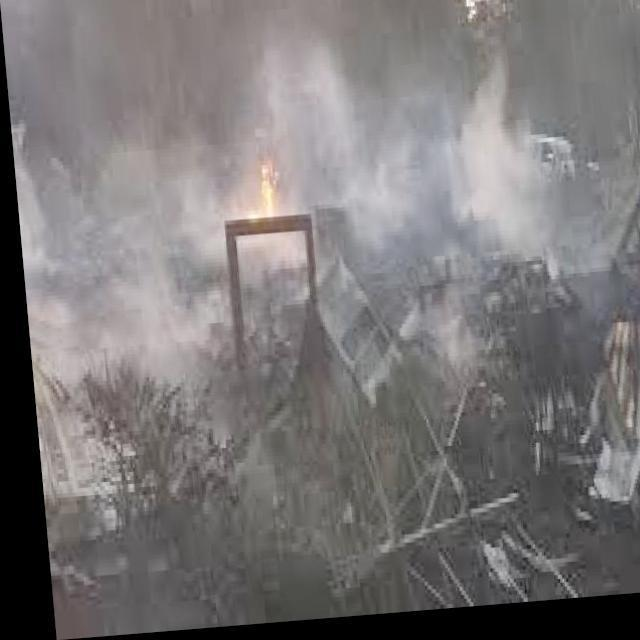Fire: (226, 142, 298, 239)
Smoke: (0, 0, 640, 332), (0, 0, 241, 487)
